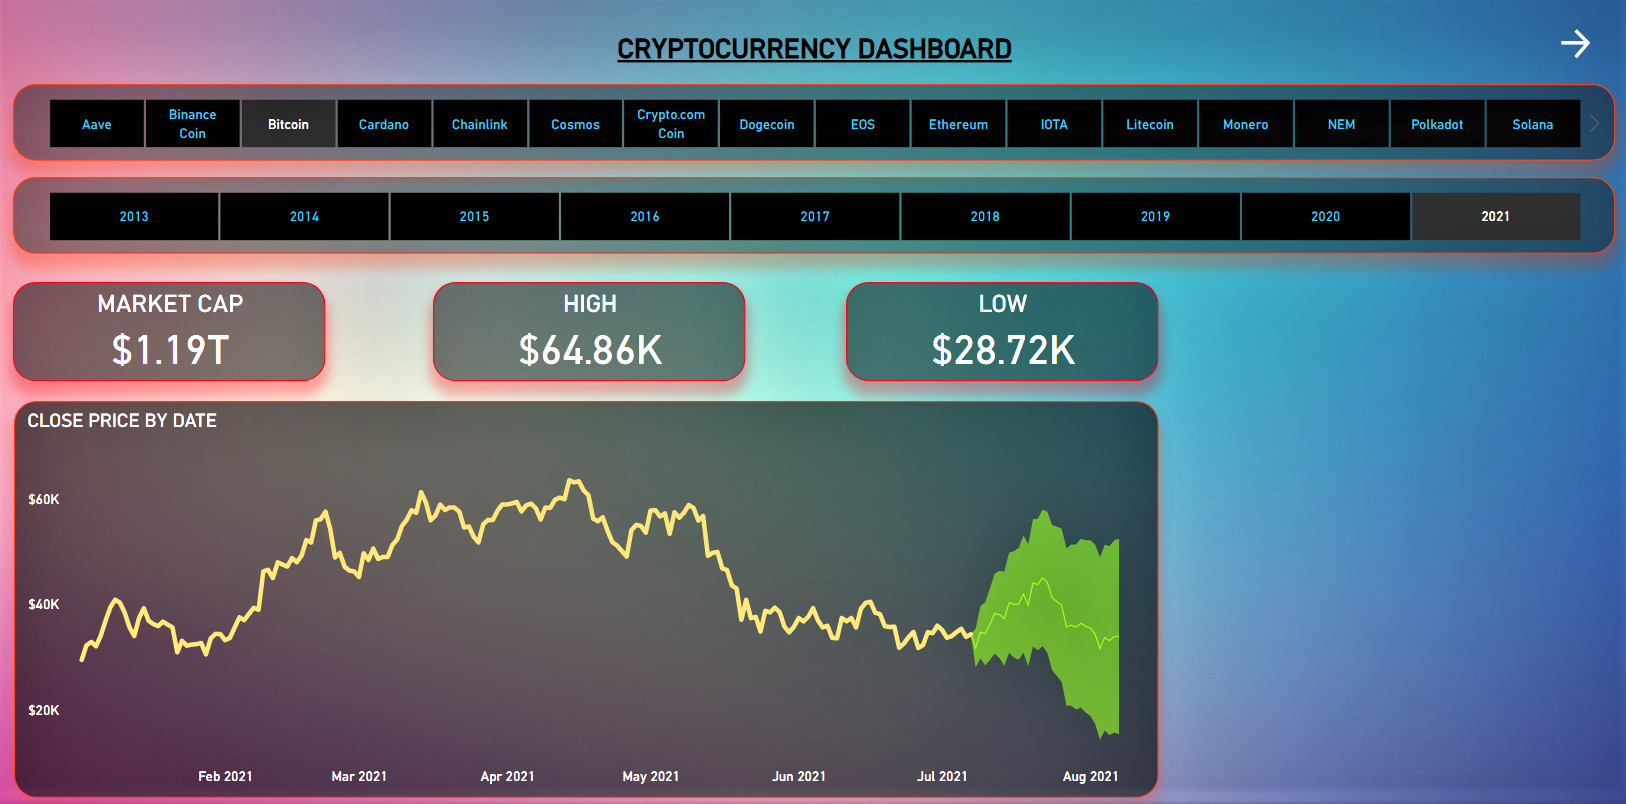

What the dashboard file says about the page in this screenshot:
{"tool":"powerbi","page":{"name":"Page 1","canvas":[1445,721],"ordinal":0},"visuals":[{"type":"slicer","fields":{"Values":["Sheet1.Year"]},"box":[12.7,162.7,1420.6,67.8],"z":0},{"type":"slicer","fields":{"Values":["Sheet1.Name"]},"box":[12.7,79.5,1420.6,67.8],"z":1000},{"type":"lineChart","title":"CLOSE PRICE BY DATE","fields":{"Category":["Sheet1.Date"],"Y":["Sum(Sheet1.Close)"]},"box":[13.3,360.9,1014.5,352.1],"z":2000},{"type":"textbox","title":"CRYPTOCURRENCY DASHBOARD","box":[382.3,34.3,682.3,27.1],"z":3000},{"type":"card","title":"MARKET CAP","fields":{"Values":["Max(Sheet1.Marketcap)"]},"box":[12.7,255.7,276.5,87.7],"z":4000},{"type":"card","title":"HIGH","fields":{"Values":["Max(Sheet1.High)"]},"box":[385,255.7,276.5,87.7],"z":5000},{"type":"card","title":"LOW","fields":{"Values":["Min(Sheet1.Low)"]},"box":[751,255.7,276.5,87.7],"z":6000},{"type":"actionButton","box":[1379.9,26.2,56.9,35.2],"z":7000}]}

Visuals, with their boxes in screenshot pixels (x1, y1, x2, y2), scaled from the page's 1445x721 canvas onto the 1626x804 screenshot:
slicer - Sheet1.Year: [14, 181, 1613, 257]
slicer - Sheet1.Name: [14, 89, 1613, 164]
"CLOSE PRICE BY DATE" lineChart: [15, 402, 1157, 795]
"CRYPTOCURRENCY DASHBOARD" textbox: [430, 38, 1198, 68]
"MARKET CAP" card: [14, 285, 325, 383]
"HIGH" card: [433, 285, 744, 383]
"LOW" card: [845, 285, 1156, 383]
actionButton: [1553, 29, 1617, 68]
